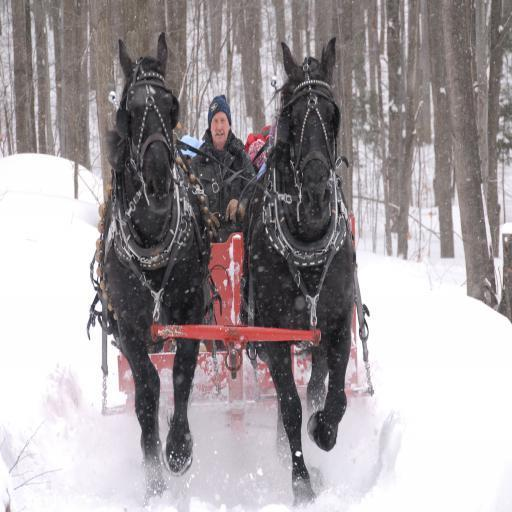horse: (98, 34, 210, 488), (246, 43, 356, 501)
